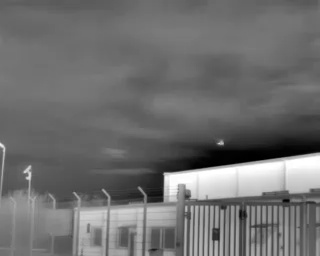HELICOPTER: (214, 136, 233, 151)
